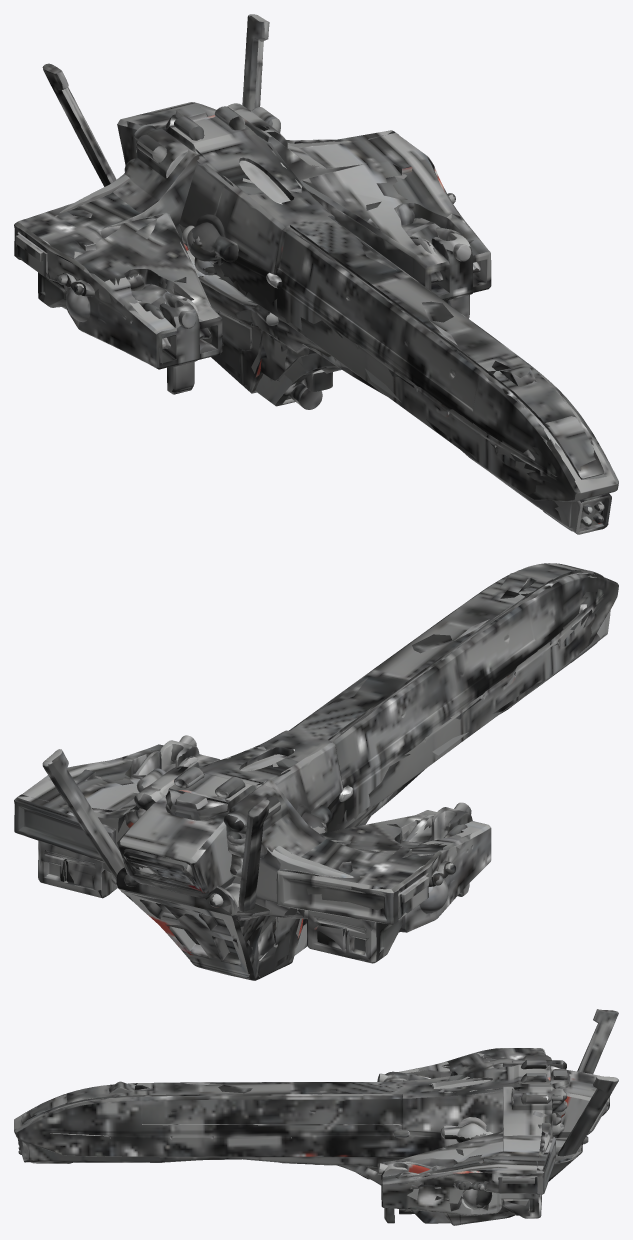
File: flagship_Beiowolf.glb
3 renders of one model, top to bottom at view 1: azimuth 30°, elevation 25°; view 2: azimuth 150°, elevation 25°; view 3: azimuth 270°, elevation 25°, orthographic. The views are drawn at different scales.
Parts seen in each view (by area): view 1: convert; view 2: convert; view 3: convert.
Boxes of the visible parts, x1,y1,x2,y2 form: convert: (14, 14, 618, 534); convert: (14, 563, 618, 980); convert: (14, 1009, 618, 1225).
Bounding box in the file's own units: 0.5527 × 0.3586 × 1.11.
1 material, 1 textured.
